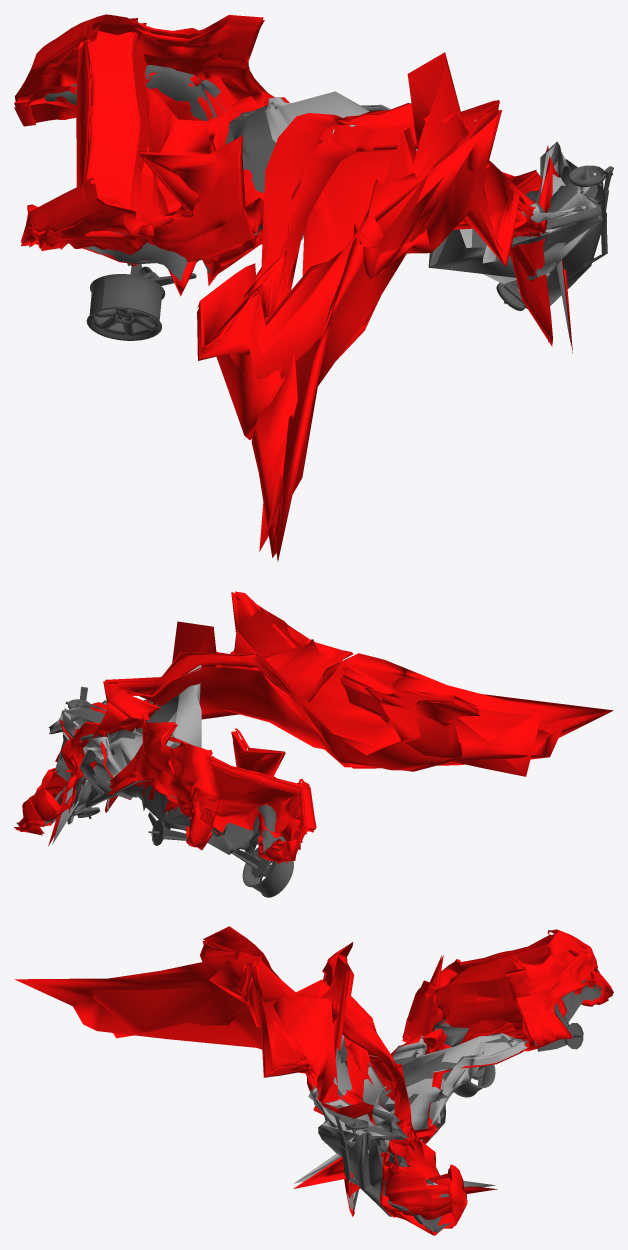
The model's file is Crash10.fbx.
The picture shows the model from 3 angles, top to bottom: view 1: azimuth 30°, elevation 25°; view 2: azimuth 150°, elevation 25°; view 3: azimuth 270°, elevation 25°; orthographic projection. The views are drawn at different scales.
Visible parts, largest first — view 1: Mesh_0357_rip1, Mesh_0279_rip, Mesh_0365_rip, Mesh_0353_rip, Mesh_0381_rip1; view 2: Mesh_0357_rip1, Mesh_0279_rip, Mesh_0365_rip, Mesh_0353_rip, Mesh_0384_rip, Mesh_0373_rip; view 3: Mesh_0357_rip1, Mesh_0365_rip, Mesh_0279_rip, Mesh_0353_rip, Mesh_0384_rip, Mesh_0381_rip1.
Boxes of the visible parts, left/top/right/bottom form: Mesh_0357_rip1: left=14, top=14, right=572, bottom=561; Mesh_0279_rip: left=44, top=65, right=604, bottom=305; Mesh_0365_rip: left=265, top=91, right=600, bottom=347; Mesh_0353_rip: left=86, top=274, right=165, bottom=340; Mesh_0381_rip1: left=496, top=166, right=613, bottom=310; Mesh_0357_rip1: left=14, top=591, right=613, bottom=863; Mesh_0279_rip: left=16, top=694, right=285, bottom=854; Mesh_0365_rip: left=49, top=665, right=201, bottom=844; Mesh_0353_rip: left=242, top=847, right=293, bottom=897; Mesh_0384_rip: left=148, top=812, right=187, bottom=845; Mesh_0373_rip: left=232, top=849, right=270, bottom=877; Mesh_0357_rip1: left=14, top=926, right=613, bottom=1235; Mesh_0365_rip: left=293, top=1033, right=527, bottom=1210; Mesh_0279_rip: left=313, top=979, right=602, bottom=1232; Mesh_0353_rip: left=454, top=1064, right=495, bottom=1097; Mesh_0384_rip: left=538, top=1023, right=583, bottom=1051; Mesh_0381_rip1: left=334, top=1115, right=359, bottom=1185.
Size of the model in its own units: 7.32 by 3.73 by 9.51.
